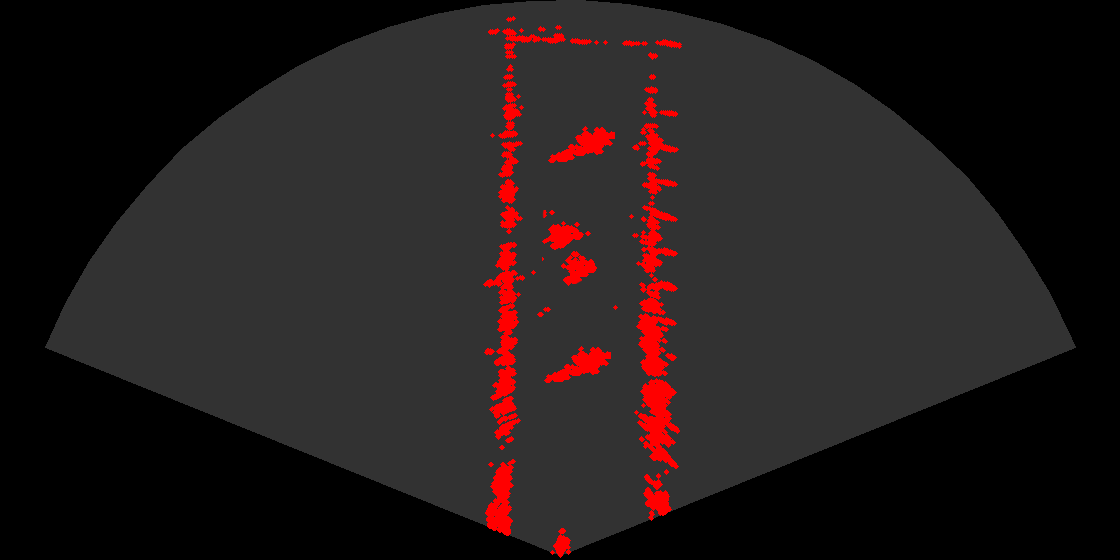cage: (542, 210, 605, 294)
frogman: (547, 120, 615, 167), (543, 340, 611, 387)
